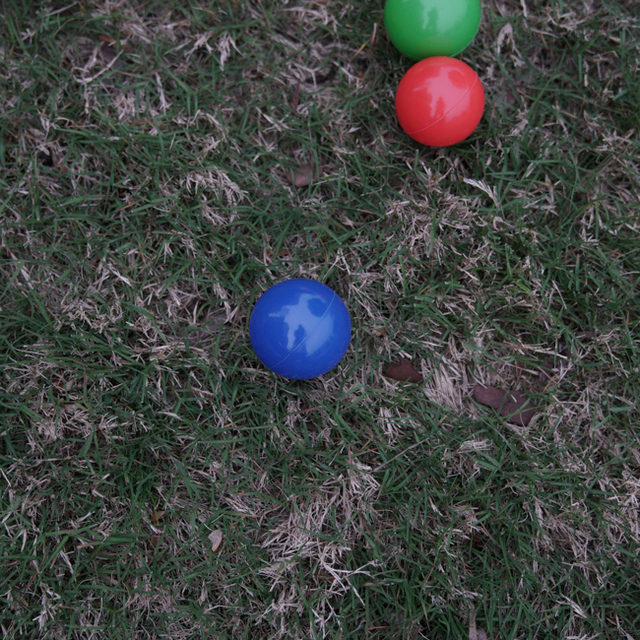Ball: (253, 279, 347, 382)
